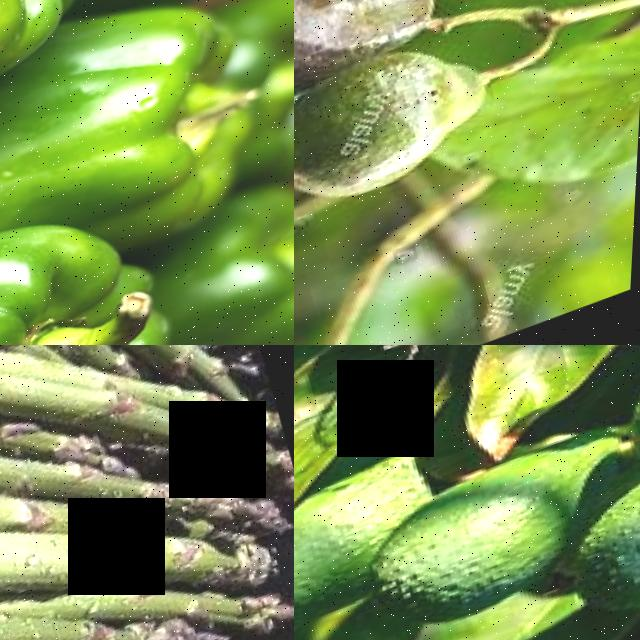asparagus: (0, 345, 255, 567), (0, 433, 273, 640)
avocado: (347, 410, 640, 640), (294, 14, 541, 238), (294, 430, 472, 640), (539, 405, 640, 637), (294, 0, 453, 141)
bell pepper: (0, 9, 263, 268), (0, 209, 186, 345)
